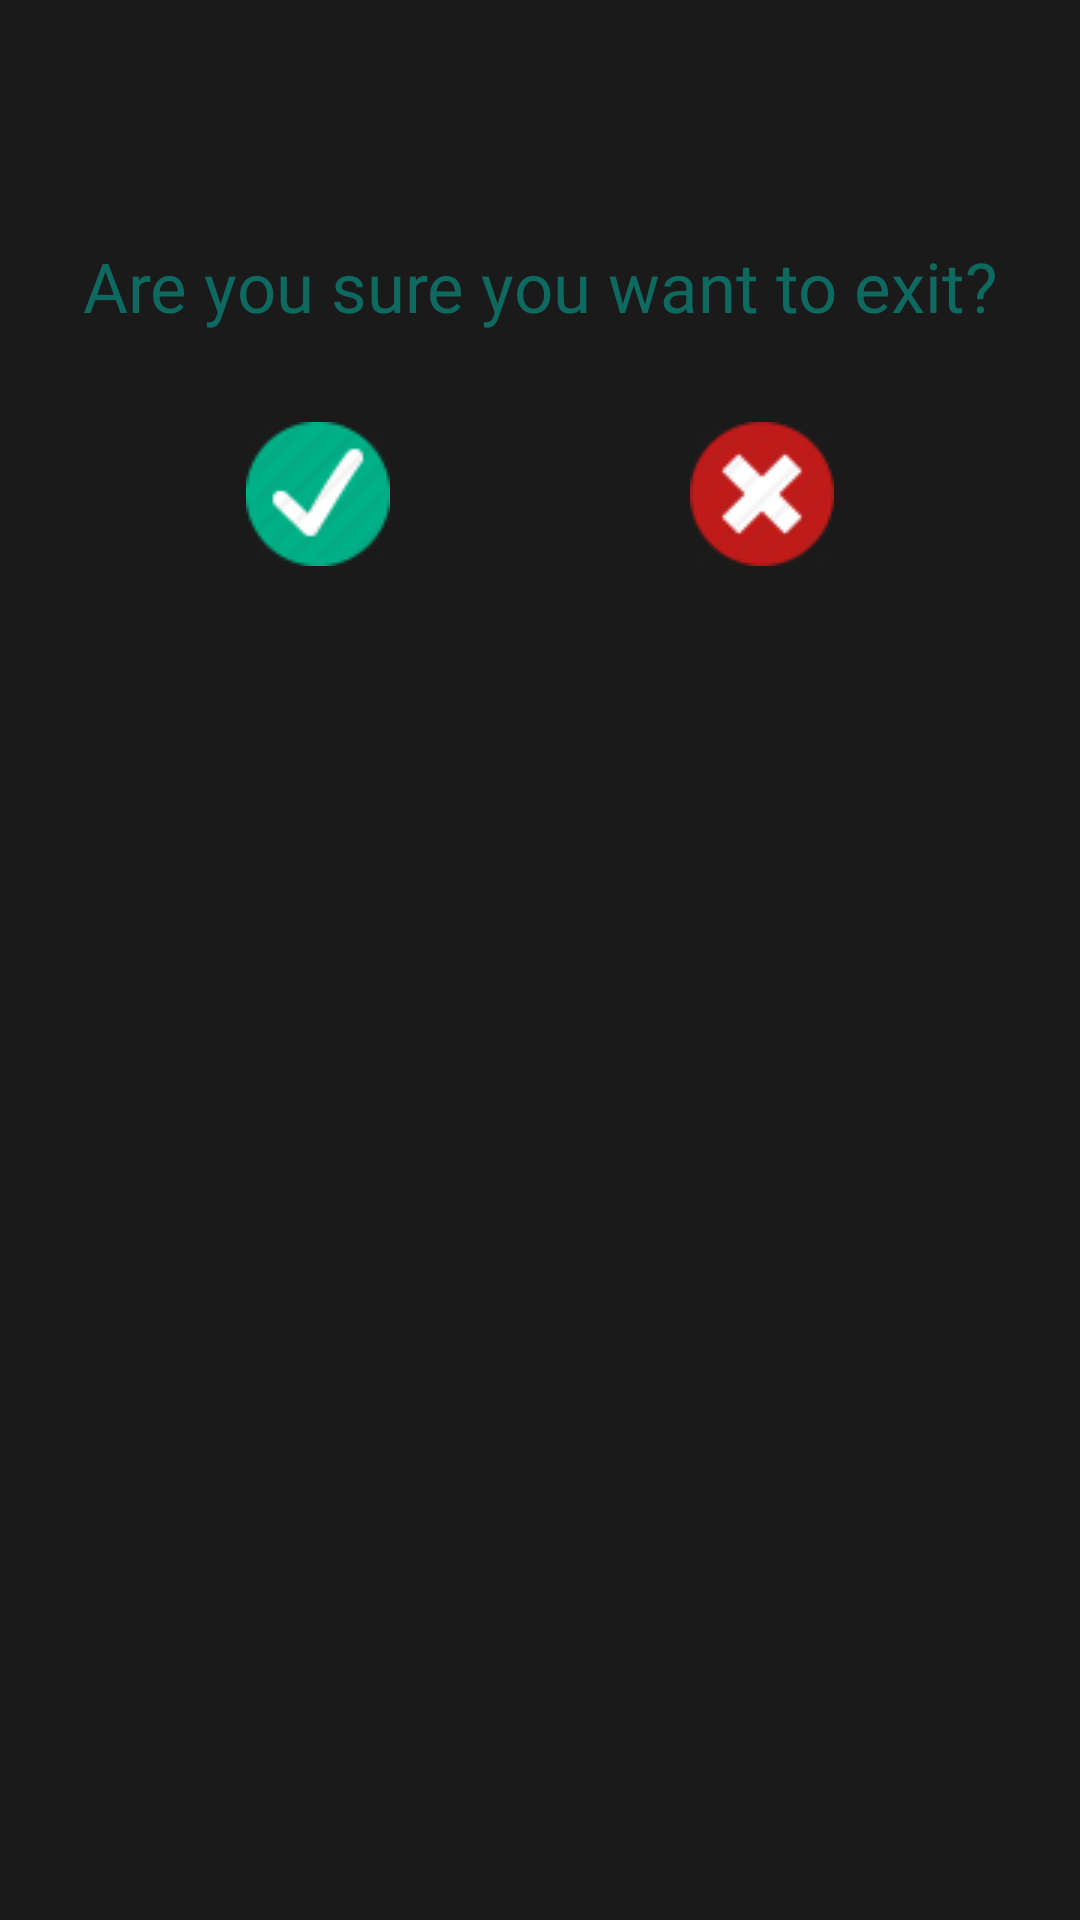

Locate icon controls on the screen. Image size 1080px x 1920px, boxes as (x1, y1, x2, y2).
cancel: (690, 422, 834, 566)
yes: (246, 422, 390, 566)
